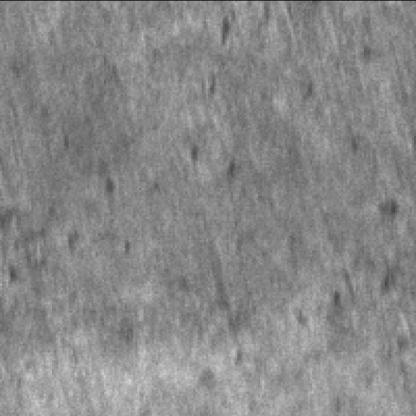rolled-in_scale: (6, 233, 129, 341), (310, 246, 414, 372)
